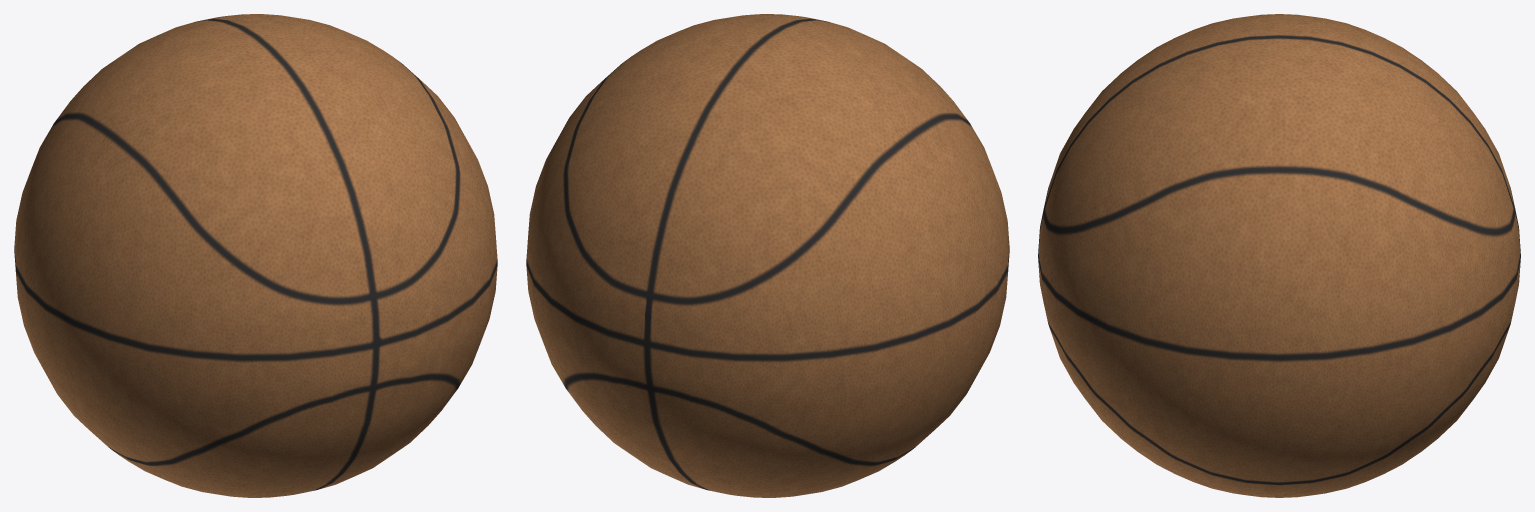
The model's file is BasketBall.fbx.
The picture shows the model from 3 angles, left to right: view 1: azimuth 30°, elevation 25°; view 2: azimuth 150°, elevation 25°; view 3: azimuth 270°, elevation 25°; orthographic projection.
Parts seen in each view (by area): view 1: BasketBall; view 2: BasketBall; view 3: BasketBall.
Part boxes in pixels (x1,y1,x2,y2): BasketBall: (14, 14, 497, 497); BasketBall: (526, 14, 1009, 497); BasketBall: (1038, 14, 1520, 497).
Bounding box in the file's own units: 23 × 22.96 × 22.93.
